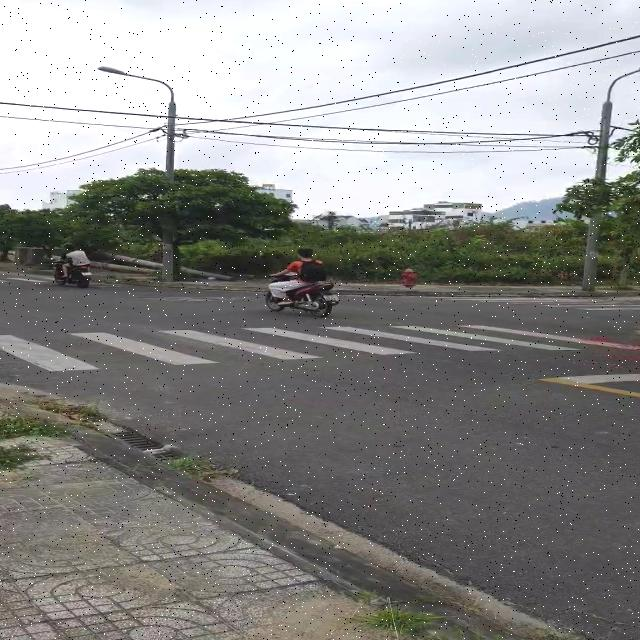no_helmet: (297, 249, 313, 256)
